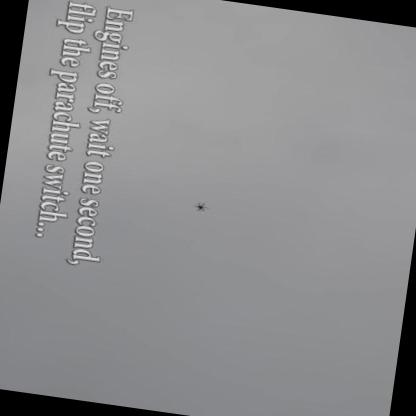drone: (190, 199, 211, 214)
